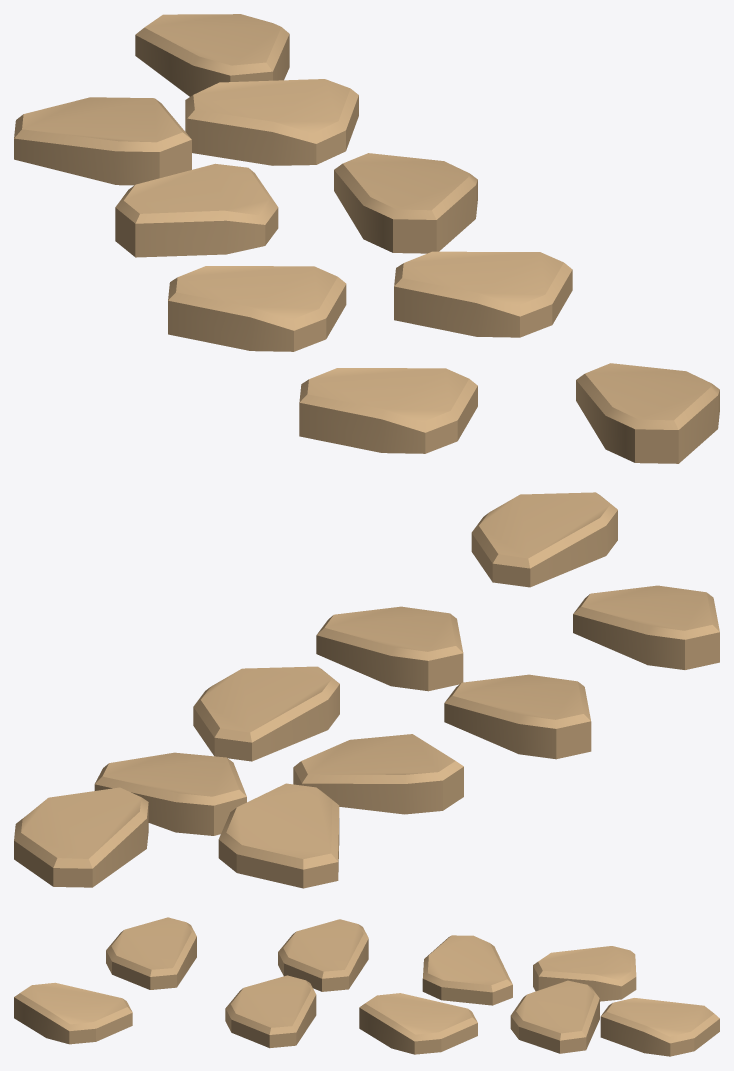
File: 05 Stone.FBX
3 renders of one model, top to bottom at view 1: azimuth 30°, elevation 25°; view 2: azimuth 150°, elevation 25°; view 3: azimuth 270°, elevation 25°, orthographic. The views are drawn at different scales.
Parts seen in each view (by area): view 1: Cylinder098; view 2: Cylinder098; view 3: Cylinder098.
Part boxes in pixels (x1,y1,x2,y2): Cylinder098: (14, 14, 719, 463); Cylinder098: (14, 492, 719, 888); Cylinder098: (14, 917, 719, 1056).
Size of the model in its own units: 1076 by 109 by 2752.
